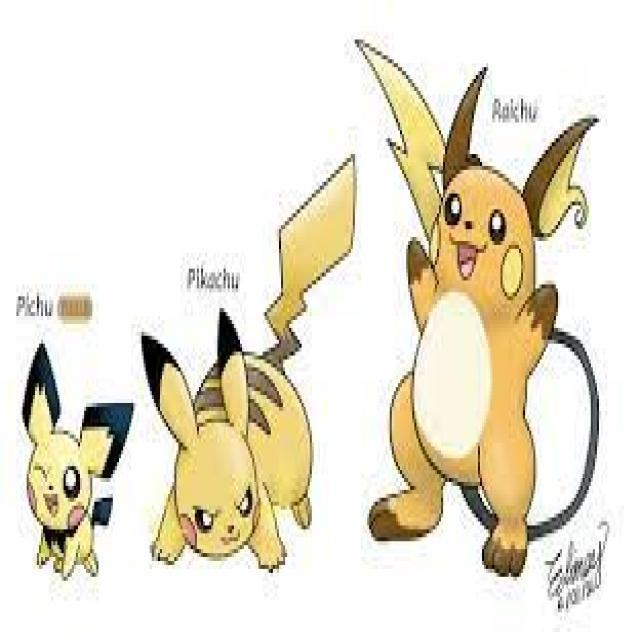pichu: (10, 330, 133, 594)
